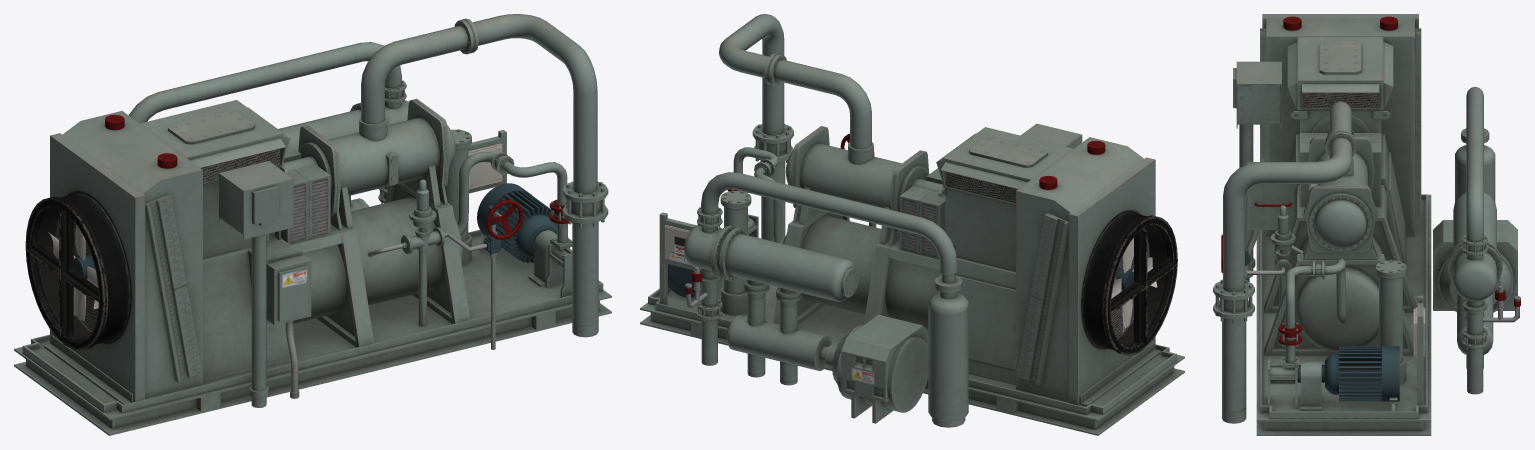
File: compressor.glb
3 views of the same model, side by side, from view 1: azimuth 30°, elevation 25°; view 2: azimuth 150°, elevation 25°; view 3: azimuth 270°, elevation 25° (orthographic). The views are drawn at different scales.
Visible parts, largest first — view 1: compressor; view 2: compressor; view 3: compressor.
Part boxes in pixels (x1,y1,x2,y2): compressor: (14,14,611,435); compressor: (640,14,1184,435); compressor: (1213,14,1520,435).
Bounding box in the file's own units: 6.16 × 3.29 × 3.53.
Materials: 1 (1 with a texture image).
